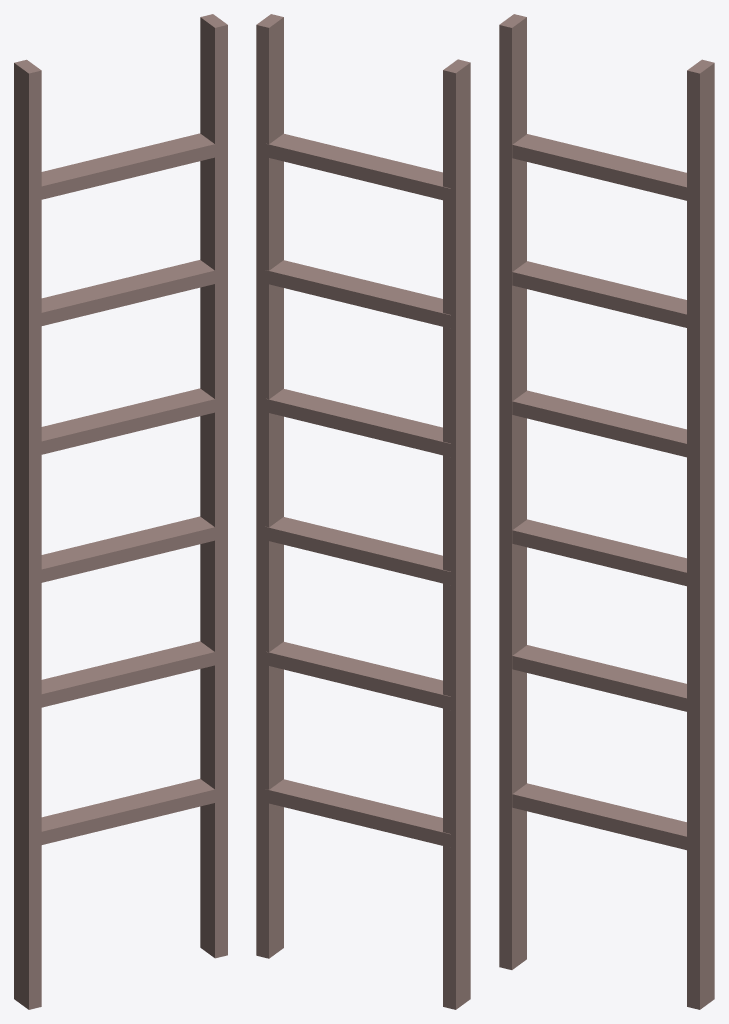
Rendered from Ladder.fbx.
3 renders of one model, left to right at view 1: azimuth 30°, elevation 25°; view 2: azimuth 150°, elevation 25°; view 3: azimuth 330°, elevation 25°, orthographic.
Parts seen in each view (by area): view 1: Ladder; view 2: Ladder; view 3: Ladder.
Boxes of the visible parts, box(x1,y1,x2,y2) form: Ladder: box(14, 14, 227, 1009); Ladder: box(256, 14, 470, 1009); Ladder: box(499, 14, 714, 1009).
Size of the model in its own units: 48.35 by 217 by 6.39.
